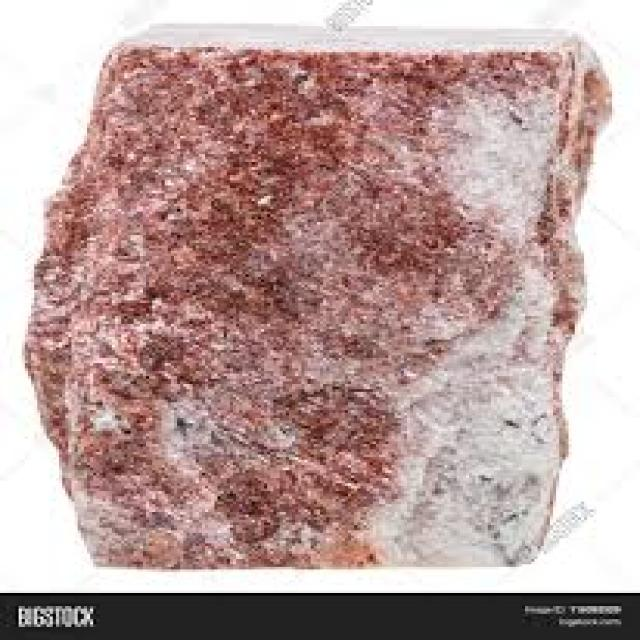Metamorphic: (38, 23, 560, 567)
